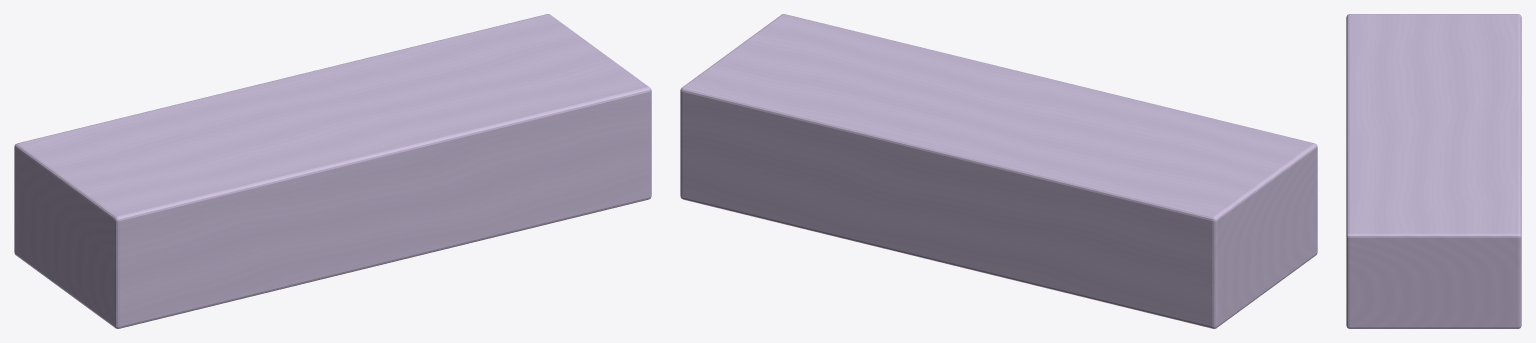
The model's file is lavender.glb.
3 renders of one model, left to right at view 1: azimuth 30°, elevation 25°; view 2: azimuth 150°, elevation 25°; view 3: azimuth 270°, elevation 25°, orthographic. The views are drawn at different scales.
Visible parts, largest first — view 1: Block_L01_S1; view 2: Block_L01_S1; view 3: Block_L01_S1.
Boxes of the visible parts, box(x1,y1,x2,y2) form: Block_L01_S1: box(14, 14, 651, 328); Block_L01_S1: box(680, 14, 1317, 328); Block_L01_S1: box(1346, 14, 1521, 328).
Size of the model in its own units: 0.075 by 0.015 by 0.025.
Materials: 1 (1 with a texture image).
